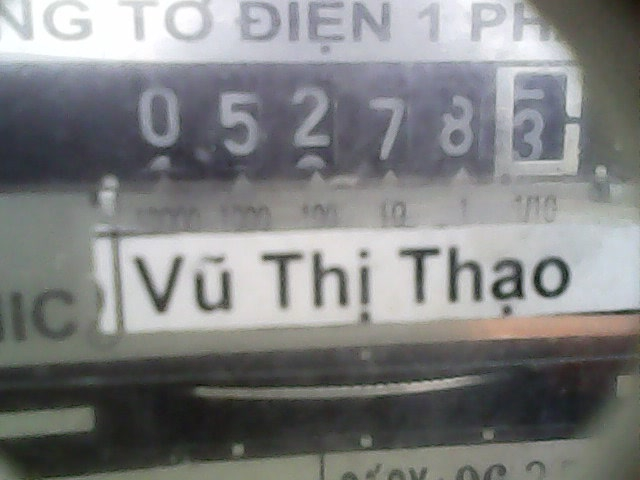phy_plate: (116, 55, 587, 184)
